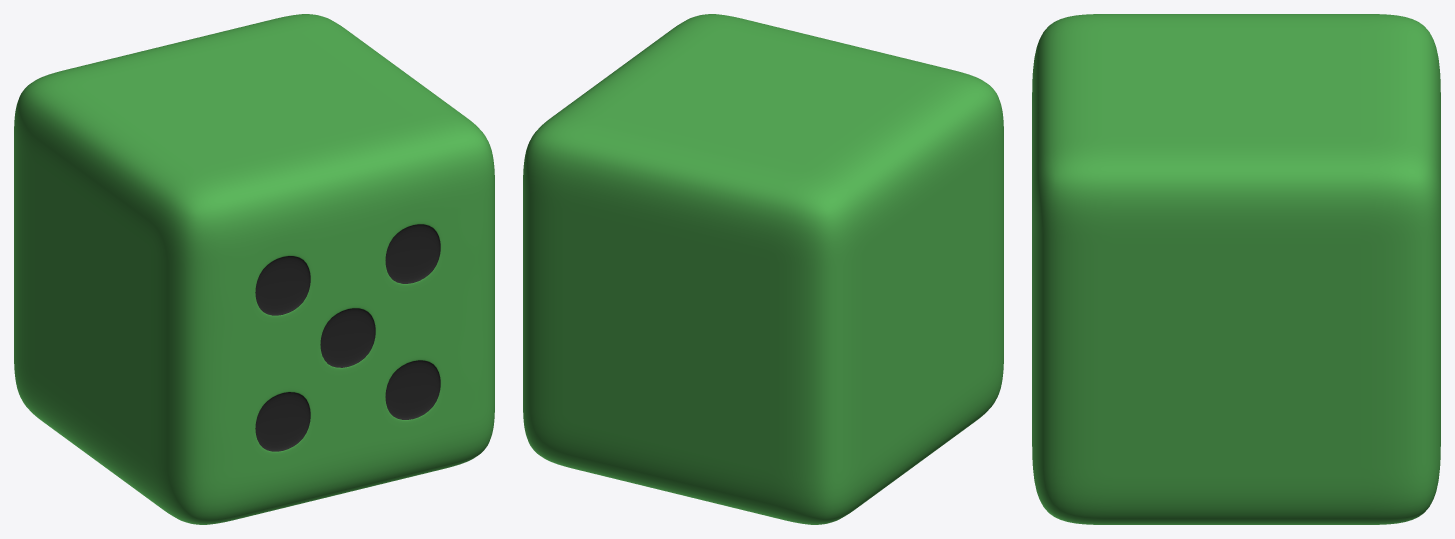
The model's file is dice_5.fbx.
The picture shows the model from 3 angles, left to right: view 1: azimuth 30°, elevation 25°; view 2: azimuth 150°, elevation 25°; view 3: azimuth 270°, elevation 25°; orthographic projection. The views are drawn at different scales.
Visible parts, largest first — view 1: pCube1; view 2: pCube1; view 3: pCube1.
Boxes of the visible parts, x1,y1,x2,y2 form: pCube1: (14,14,494,524); pCube1: (523,14,1003,524); pCube1: (1032,14,1440,524).
Size of the model in its own units: 100 by 100 by 100.
